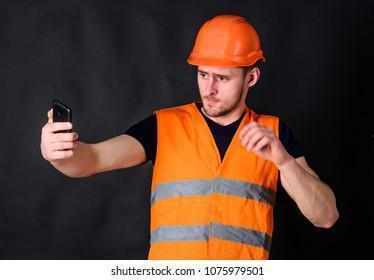helmet: (187, 15, 266, 67)
